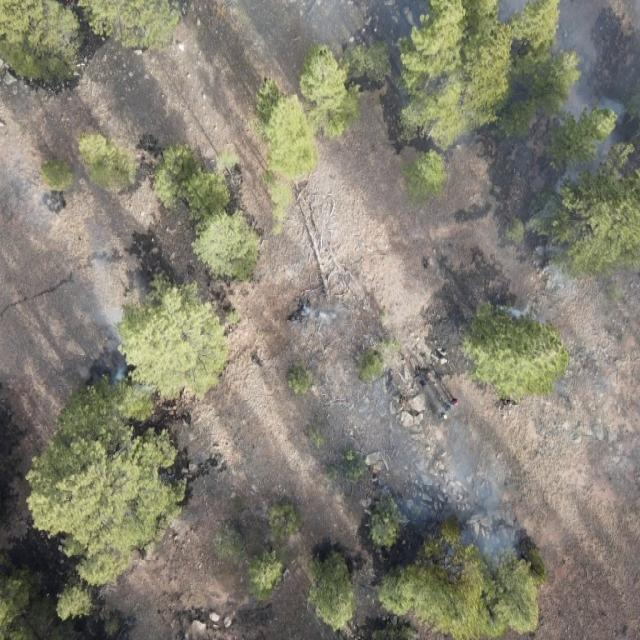fire: (60, 0, 74, 8)
smoke: (329, 384, 522, 570), (493, 2, 640, 200), (70, 268, 130, 393), (496, 252, 582, 336), (0, 158, 66, 244), (291, 0, 371, 51)
